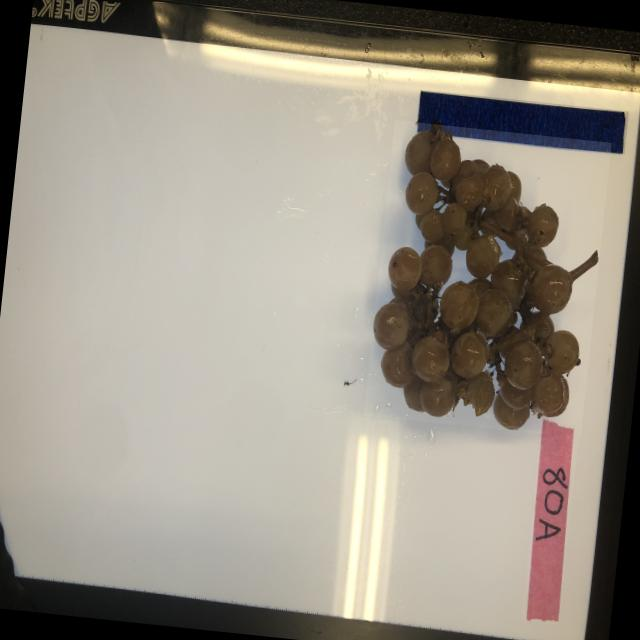grape_cluster: (362, 120, 610, 438)
index: (519, 422, 578, 624)
measure_label: (414, 89, 628, 154)
